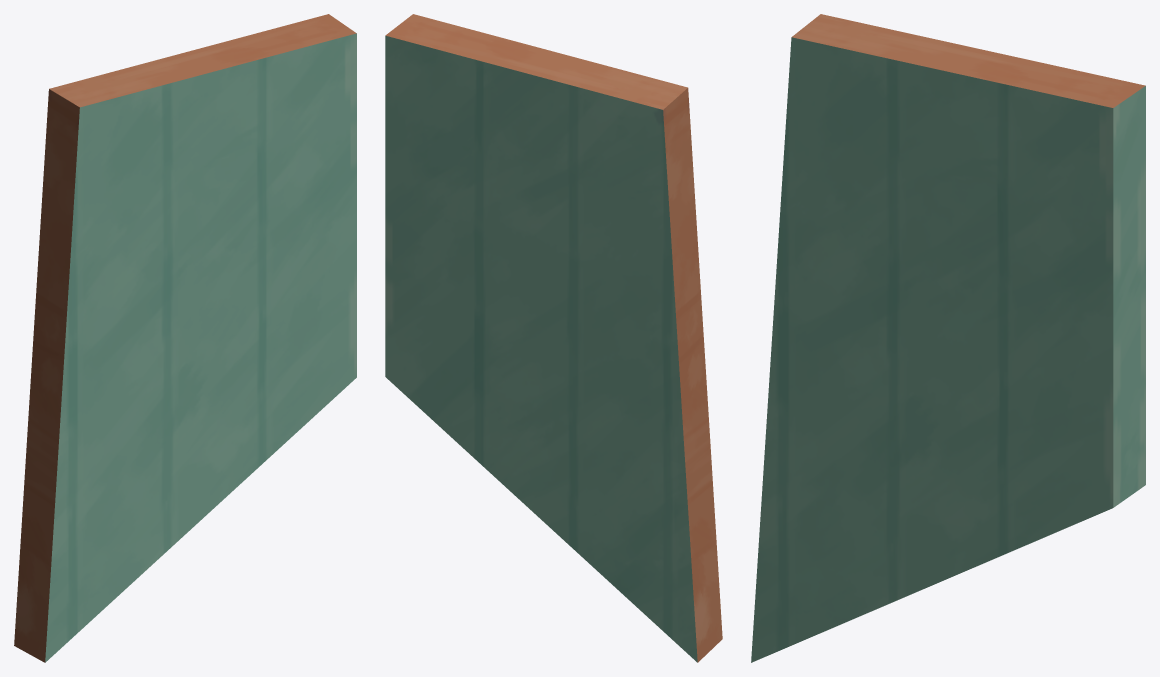
File: door2_teal_s03.fbx
3 renders of one model, left to right at view 1: azimuth 30°, elevation 25°; view 2: azimuth 150°, elevation 25°; view 3: azimuth 330°, elevation 25°, orthographic. The views are drawn at different scales.
Visible parts, largest first — view 1: door2_teal_s03; view 2: door2_teal_s03; view 3: door2_teal_s03.
Part boxes in pixels (x1=…): door2_teal_s03: x1=14, y1=14, x2=356, y2=662; door2_teal_s03: x1=385, y1=14, x2=722, y2=662; door2_teal_s03: x1=751, y1=14, x2=1145, y2=662.
Size of the model in its own units: 1.81 by 3.06 by 0.28.
